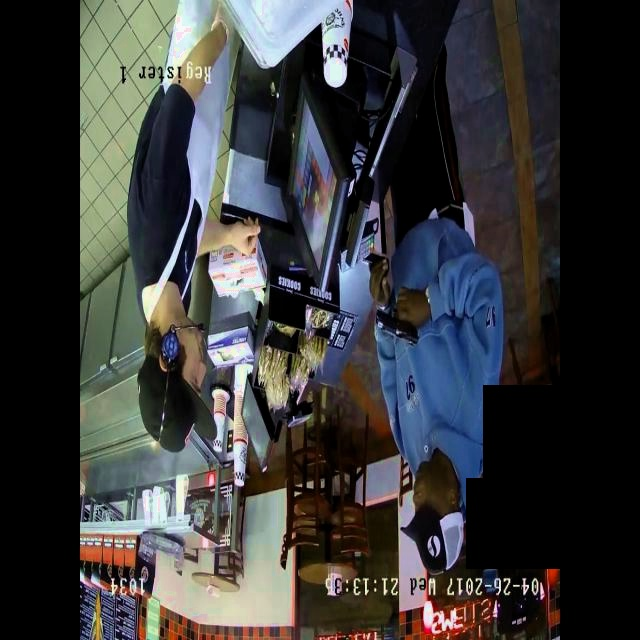gun: (365, 293, 432, 352)
